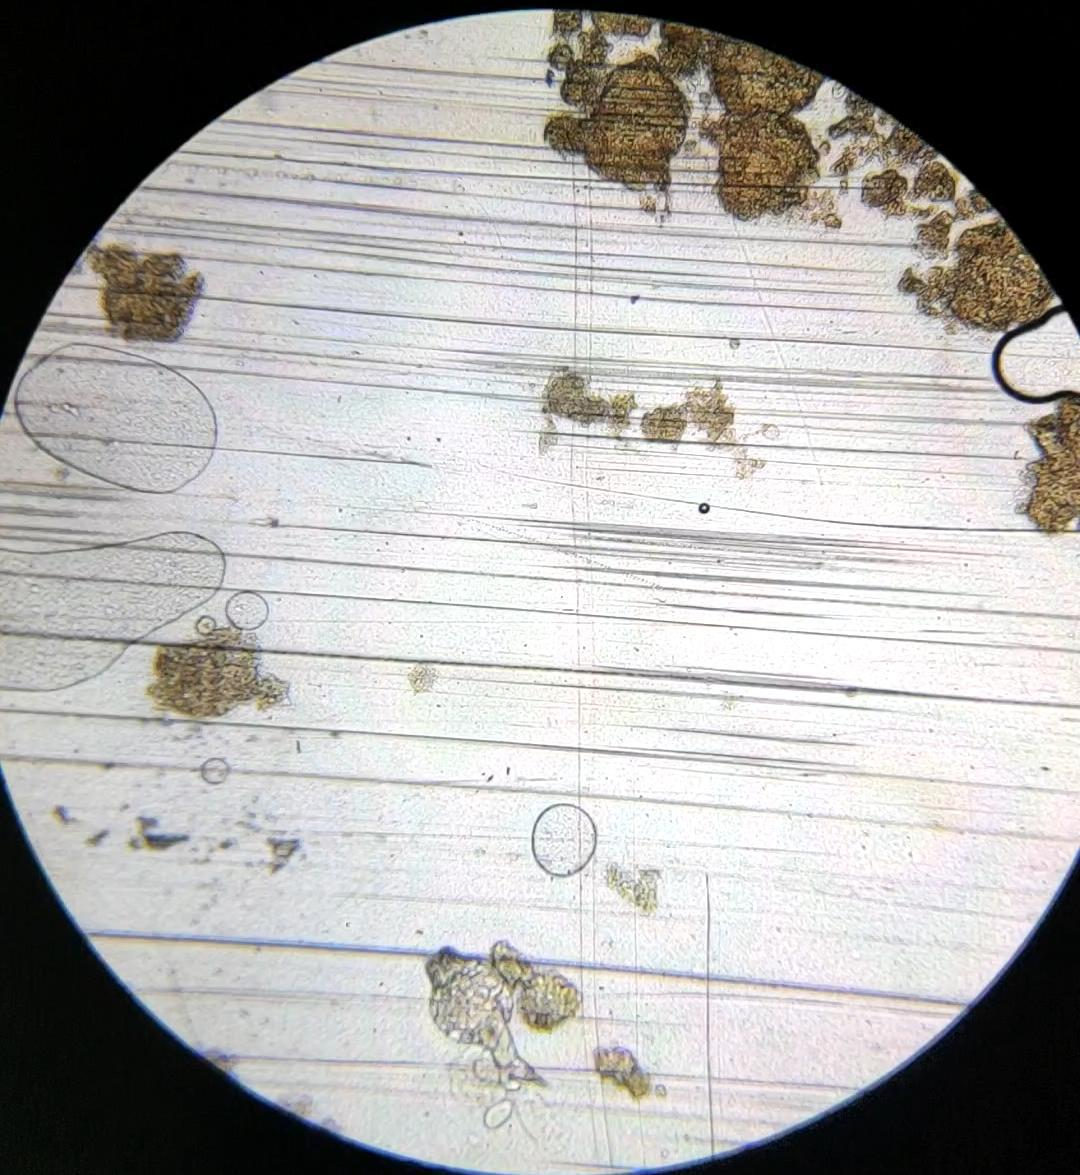Do: (426, 947, 548, 1085)
